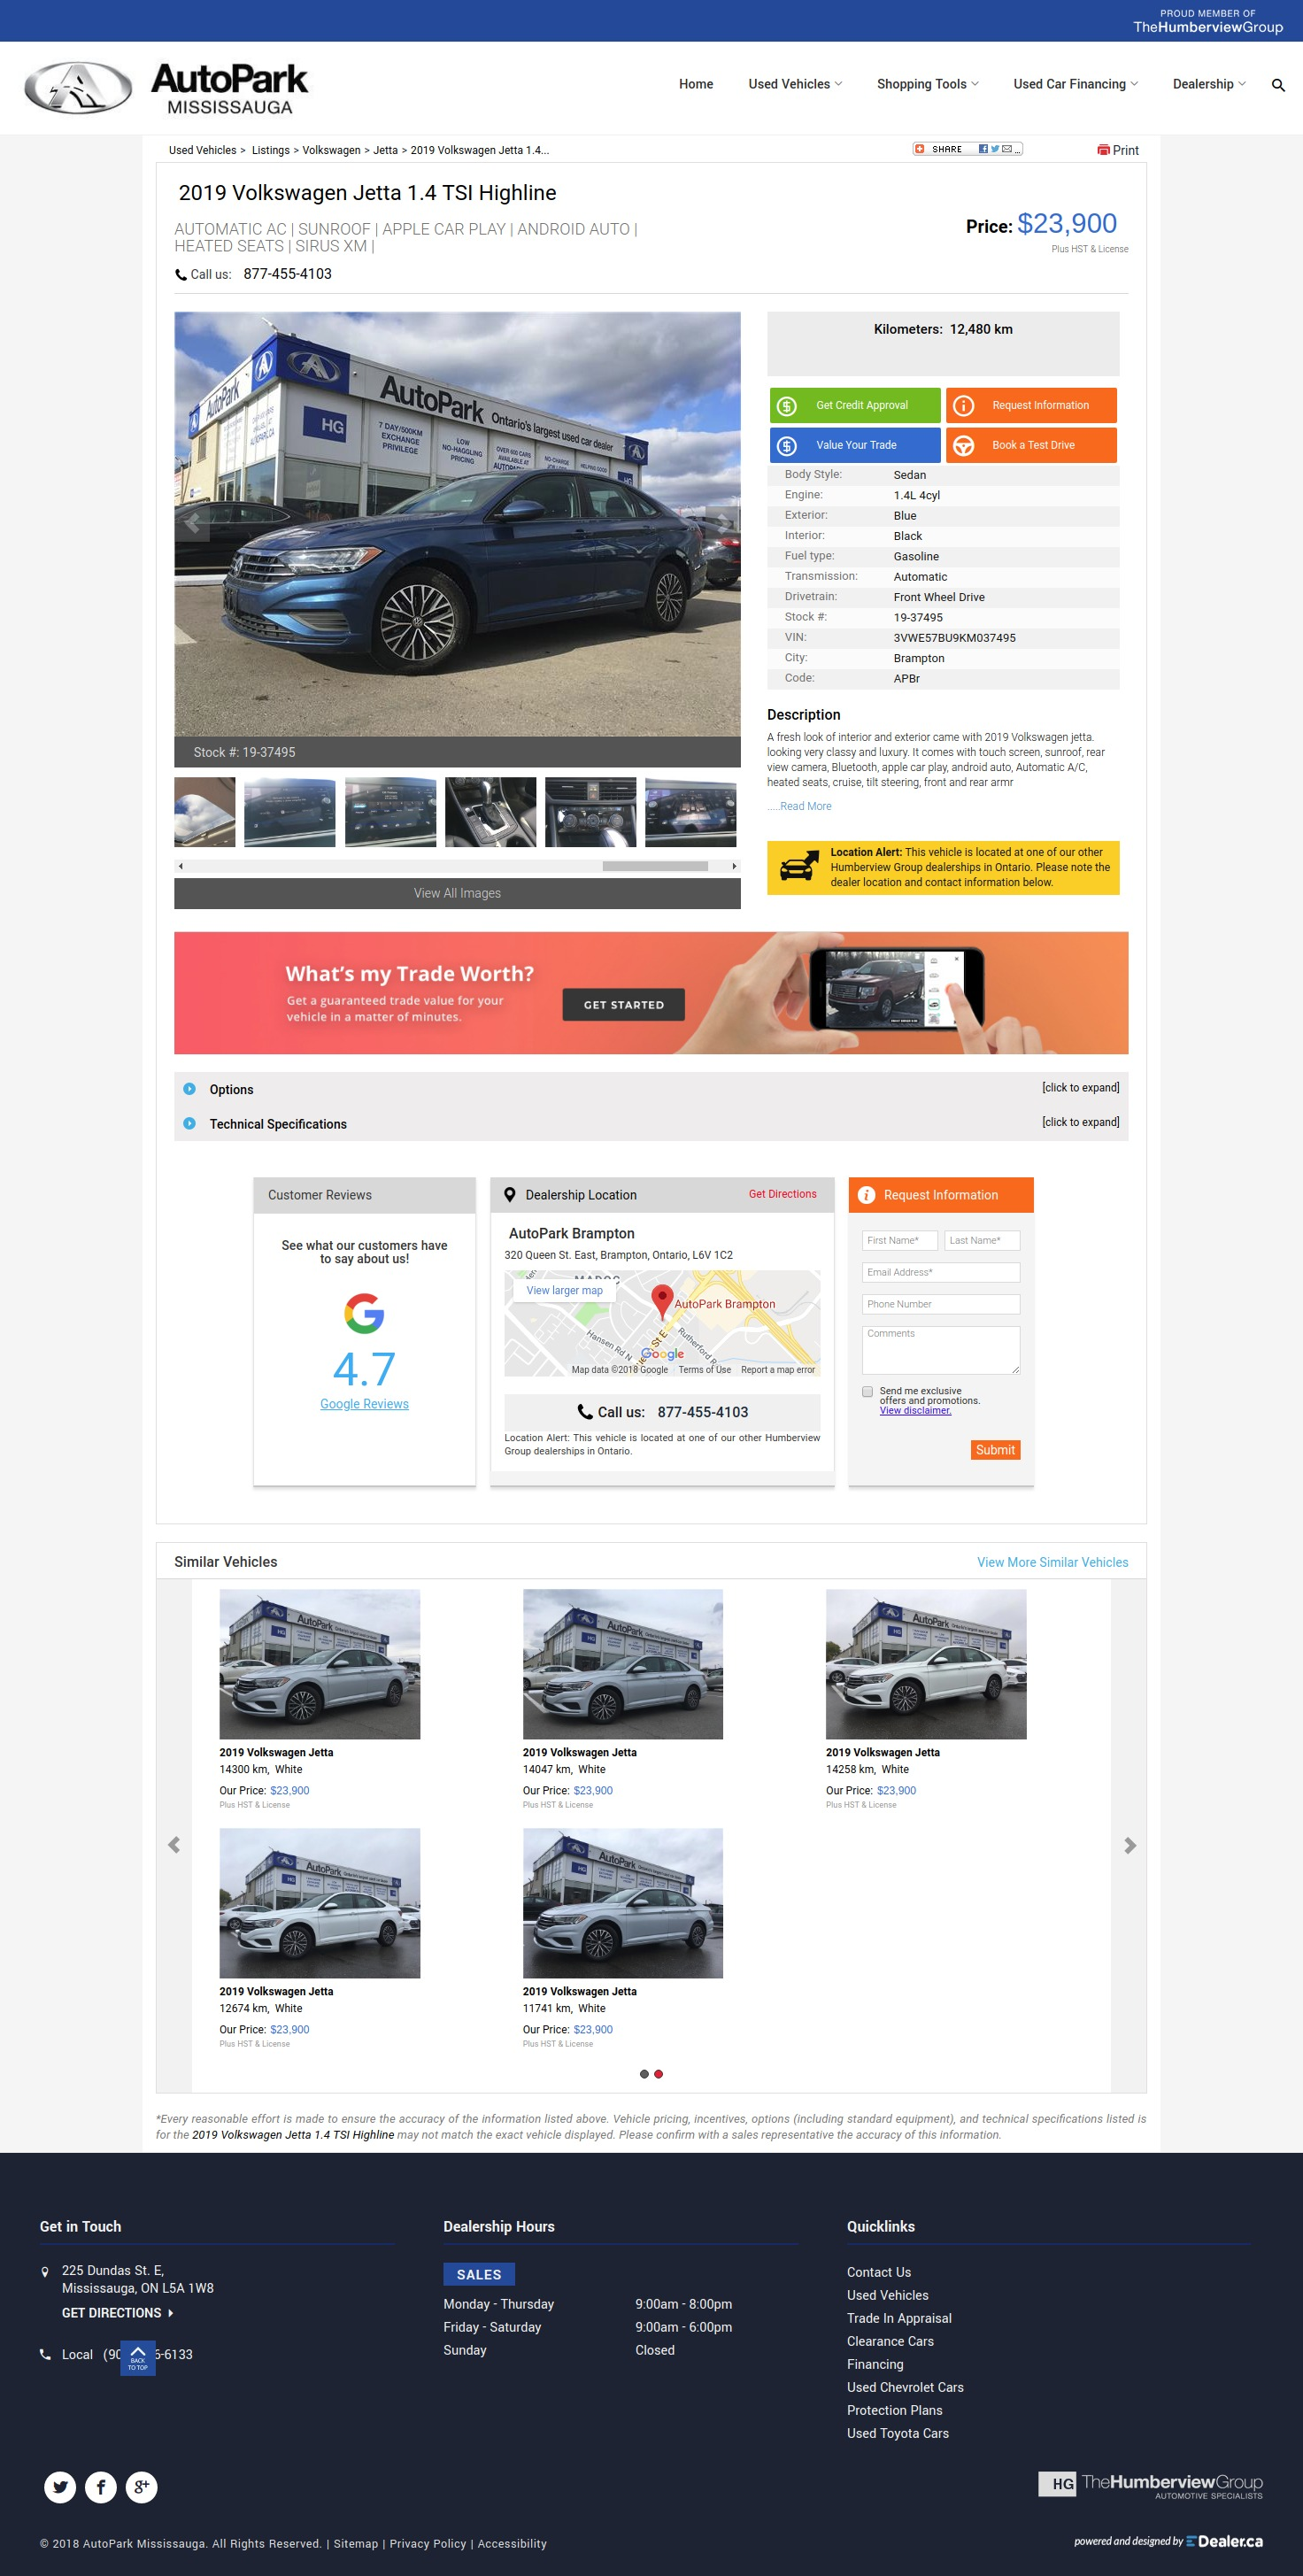car: (731, 863, 738, 871)
